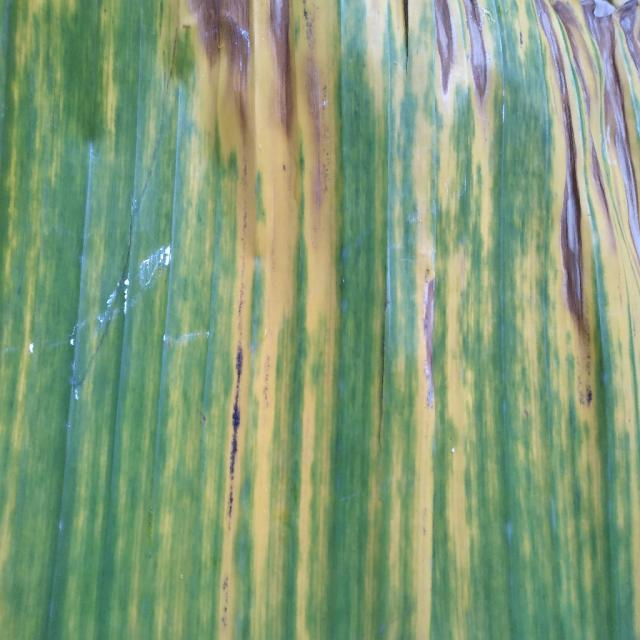Cordana: (92, 2, 640, 640)
